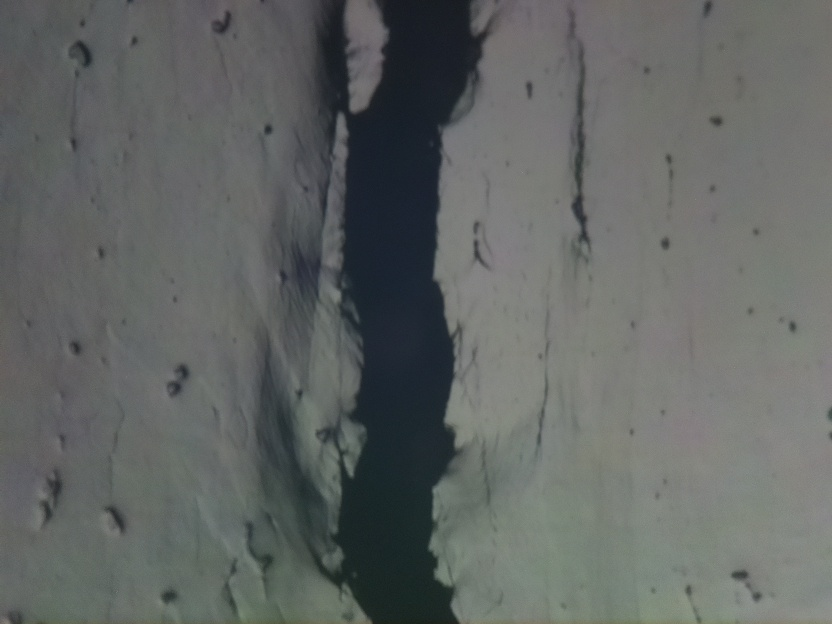crack: (339, 0, 484, 624), (572, 43, 589, 247)
